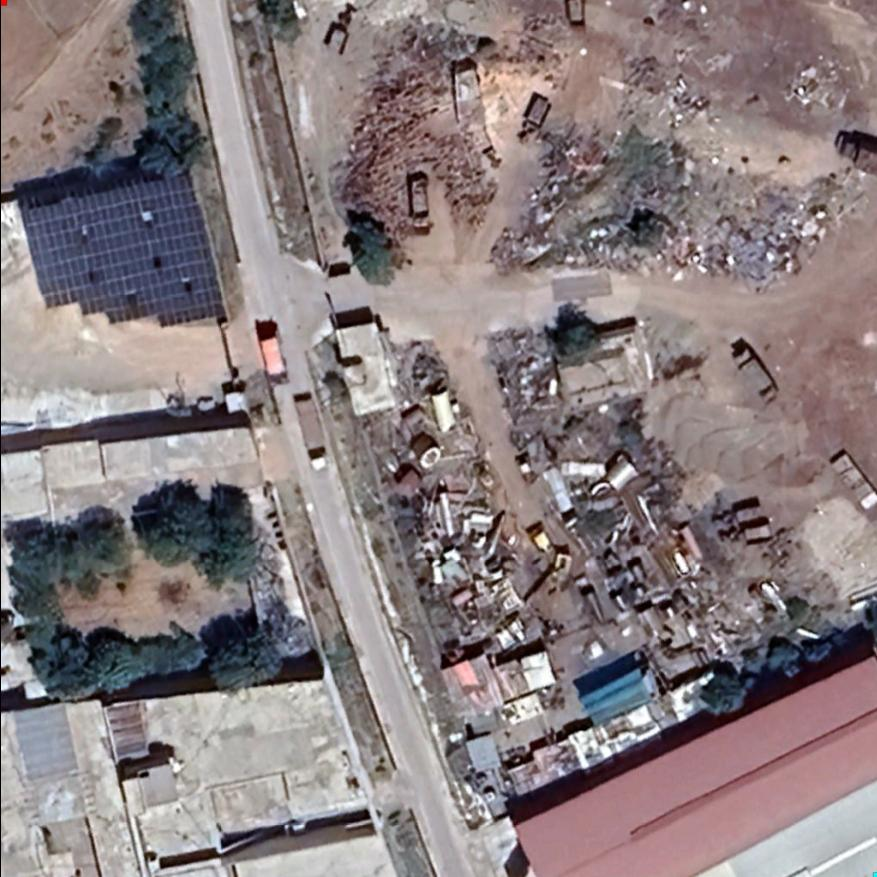Solarpanel: (10, 169, 227, 346)
